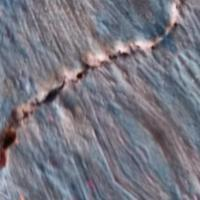crack: (2, 2, 179, 165)
